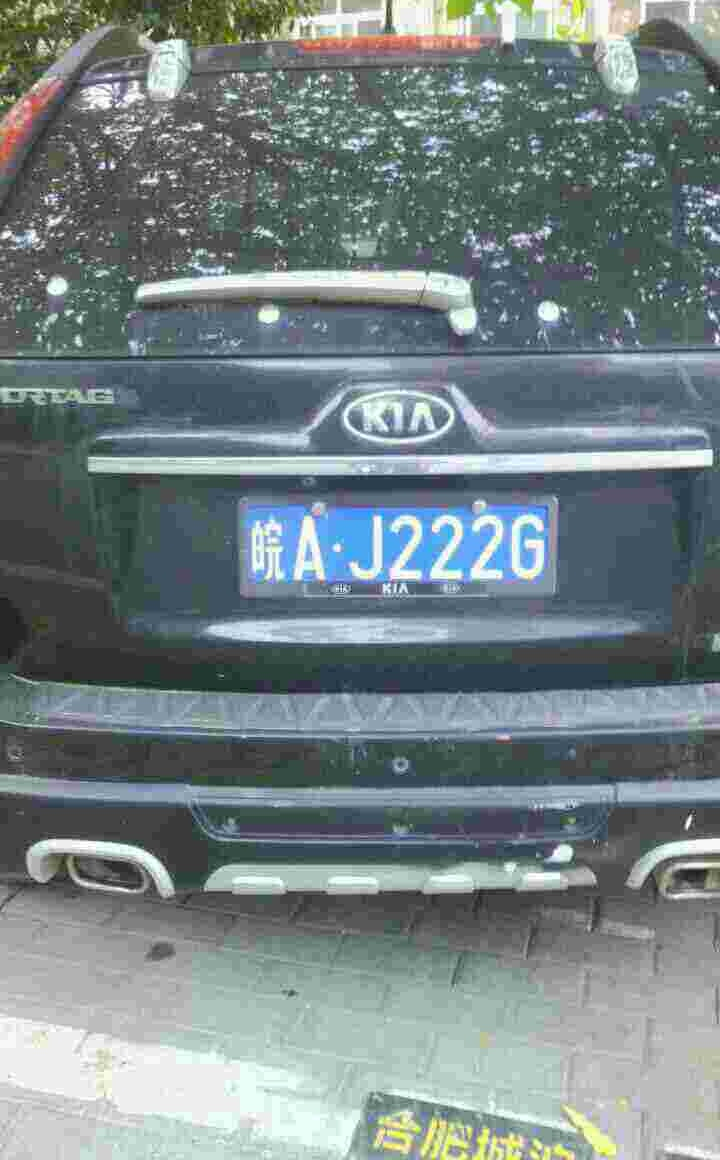license_plate: (241, 502, 569, 583)
